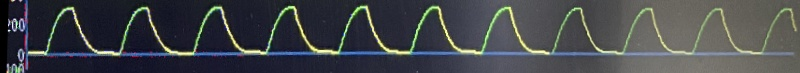normal_volume: (29, 0, 799, 62)
